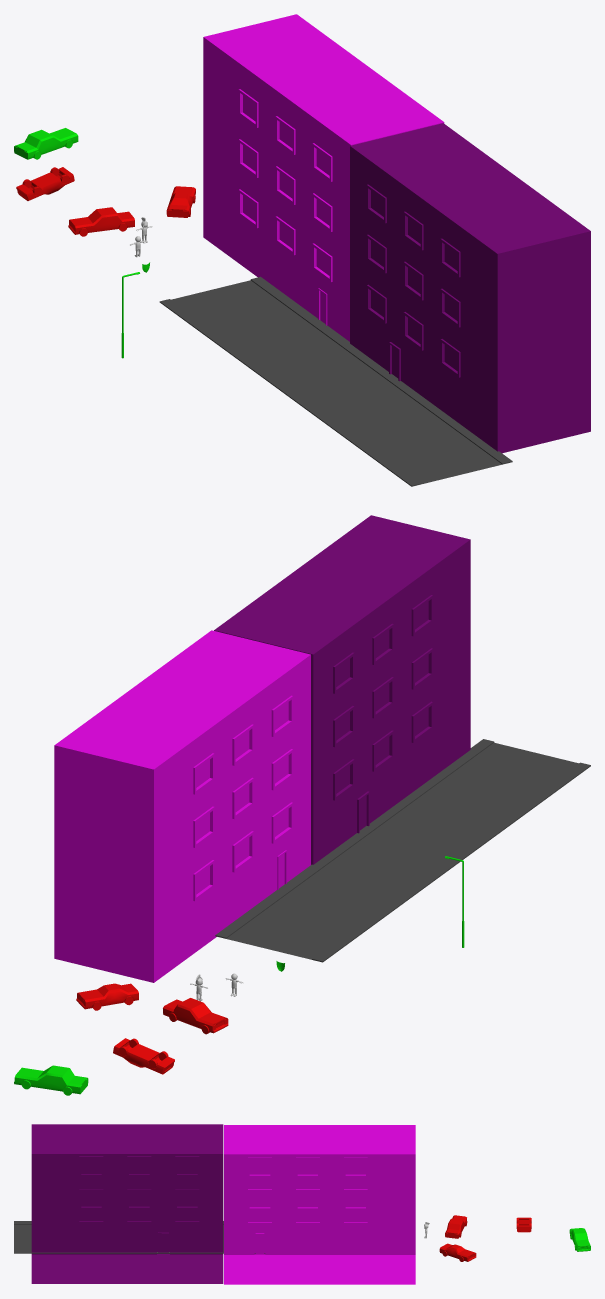
The model's file is Models.fbx.
3 renders of one model, top to bottom at view 1: azimuth 30°, elevation 25°; view 2: azimuth 150°, elevation 25°; view 3: azimuth 270°, elevation 25°, orthographic. The views are drawn at different scales.
Parts seen in each view (by area): view 1: pCube14, pCube8, pPlane1, Car1_pCylinder9, Car2_pCylinder8, Car3_pCylinder8, Car4_pCylinder9; view 2: pCube8, pCube14, pPlane1, Car1_pCylinder9, Car2_pCylinder8, Car3_pCylinder8, Car4_pCylinder9; view 3: pCube14, pCube8, pPlane1, Car4_pCylinder9, Car1_pCylinder9, Car2_pCylinder8, Car3_pCylinder8.
Boxes of the visible parts, x1,y1,x2,y2 form: pCube14: (350, 123, 590, 453); pCube8: (203, 14, 444, 341); pPlane1: (159, 276, 512, 486); Car1_pCylinder9: (14, 128, 78, 159); Car2_pCylinder8: (68, 207, 134, 236); Car3_pCylinder8: (16, 167, 74, 200); Car4_pCylinder9: (166, 186, 195, 217); pCube8: (54, 630, 310, 982); pCube14: (214, 515, 470, 864); pPlane1: (215, 739, 590, 962); Car1_pCylinder9: (14, 1065, 88, 1095); Car2_pCylinder8: (163, 998, 228, 1034); Car3_pCylinder8: (113, 1038, 174, 1074); Car4_pCylinder9: (76, 983, 138, 1010); pCube14: (31, 1124, 223, 1283); pCube8: (224, 1125, 415, 1284); pPlane1: (14, 1221, 265, 1253); Car4_pCylinder9: (439, 1243, 476, 1261); Car1_pCylinder9: (569, 1228, 590, 1251); Car2_pCylinder8: (445, 1215, 467, 1238); Car3_pCylinder8: (516, 1217, 531, 1232).
Size of the model in its own units: 2691 by 1842 by 7399.
